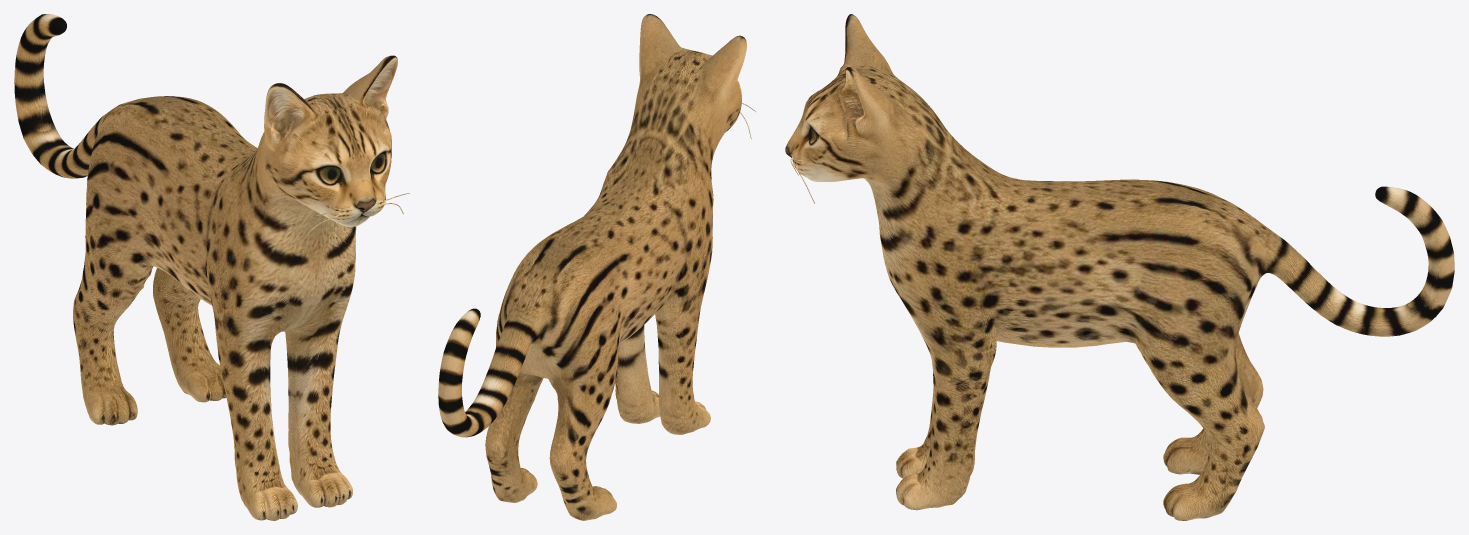
Rendered from meshy-spangled.glb.
3 renders of one model, left to right at view 1: azimuth 30°, elevation 25°; view 2: azimuth 150°, elevation 25°; view 3: azimuth 270°, elevation 25°, orthographic. The views are drawn at different scales.
Parts seen in each view (by area): view 1: Mesh_0; view 2: Mesh_0; view 3: Mesh_0.
Part boxes in pixels (left/top/right/bottom): Mesh_0: left=14, top=14, right=409, bottom=520; Mesh_0: left=438, top=14, right=755, bottom=520; Mesh_0: left=785, top=14, right=1454, bottom=520.
Size of the model in its own units: 0.4528 by 1.41 by 1.9.
1 material, 1 textured.
